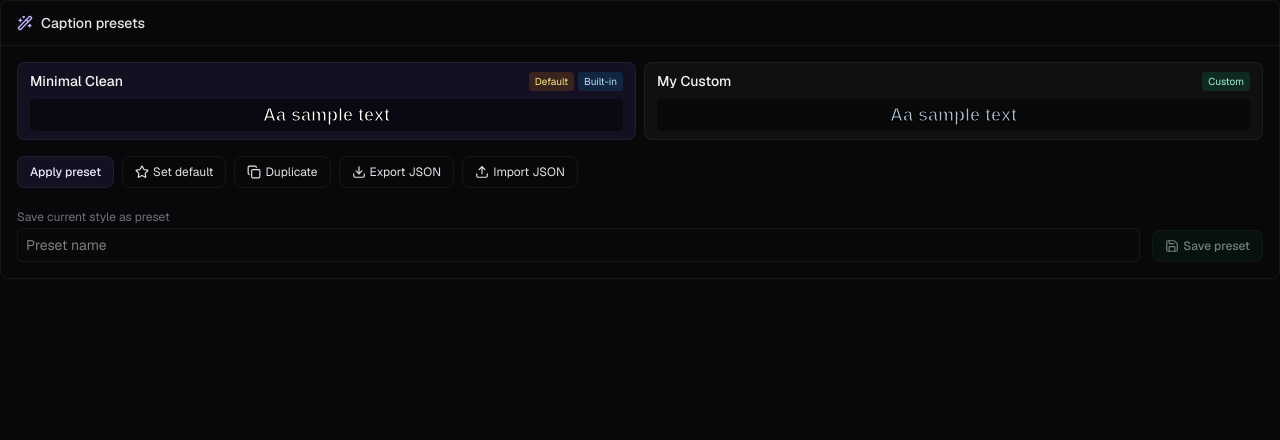
Scenario: CaptionPresetPanel › allows rename and delete for custom preset
Click the button with aria-label "Preset My Custom": [954, 101] box [644,62,1263,140]
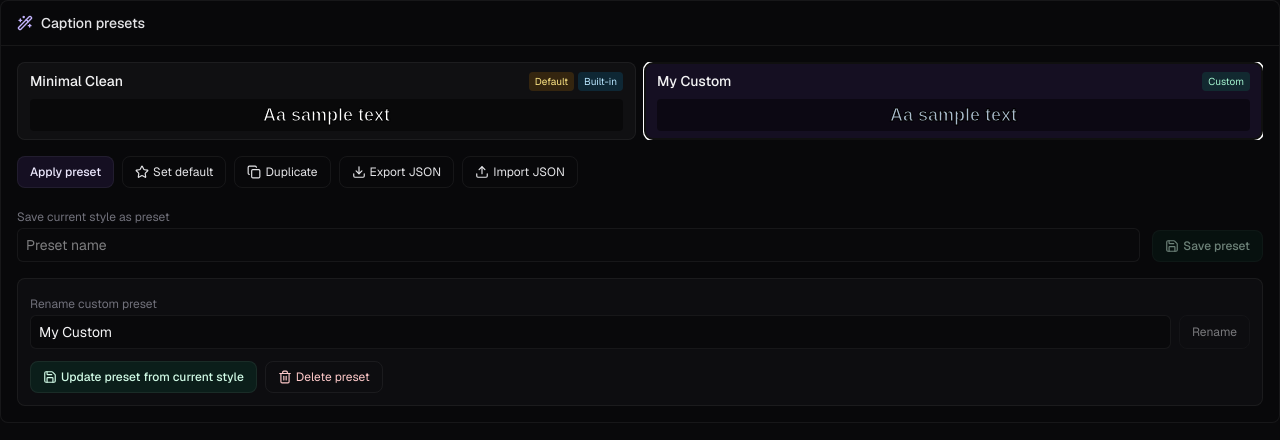
expect the button "Rename" is shown: met, box [1179,315,1250,349]
expect the button "Delete preset" is shown: met, box [265,361,383,393]
